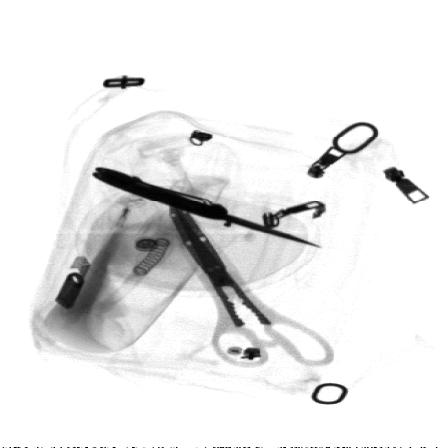Knife: (91, 166, 324, 247)
Scissors: (169, 198, 333, 370)
